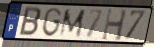7: (124, 9, 147, 41), (84, 9, 104, 40)
B: (18, 6, 42, 38)
G: (41, 7, 63, 38)
H: (100, 7, 129, 43)
M: (57, 8, 87, 38)
